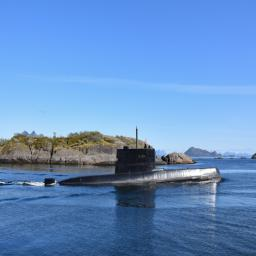submarine: (46, 150, 224, 186)
